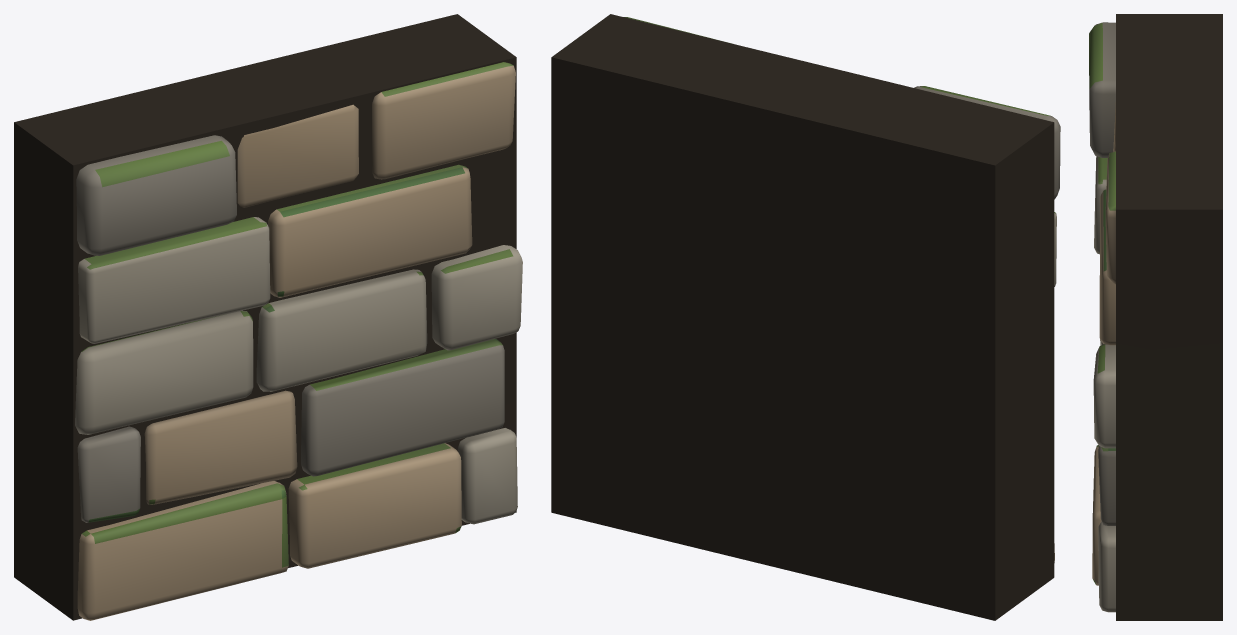
File: kit_wall1.glb
The picture shows the model from 3 angles, left to right: view 1: azimuth 30°, elevation 25°; view 2: azimuth 150°, elevation 25°; view 3: azimuth 270°, elevation 25°; orthographic projection. The views are drawn at different scales.
Parts seen in each view (by area): view 1: kit_wall1; view 2: kit_wall1; view 3: kit_wall1.
Part boxes in pixels (bbox=[...]): kit_wall1: bbox=[14, 14, 522, 620]; kit_wall1: bbox=[551, 14, 1060, 620]; kit_wall1: bbox=[1089, 14, 1222, 620].
Size of the model in its own units: 1.04 by 1.02 by 0.3007.
